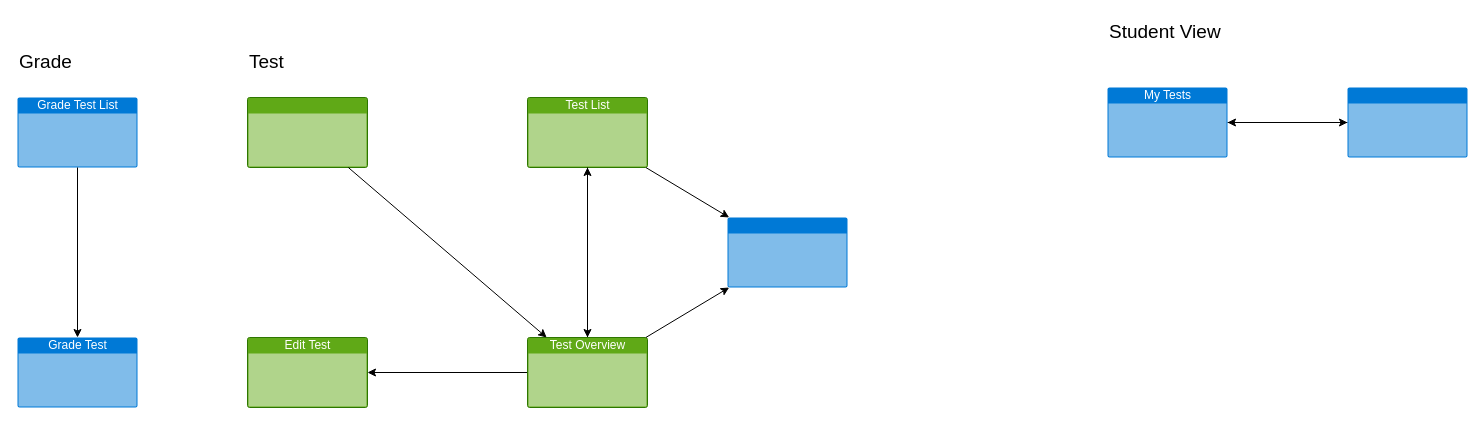
Some shapes in this 1484 by 425 pixel diagram are drawn without their labels. Each missing label, with the centre of its shape:
"Create Test" goes at [307,132].
"Fill In Test" goes at [1407,122].
"Share Test Modal" goes at [787,252].
